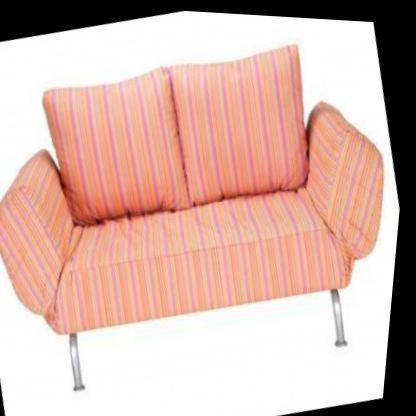Sofa: (0, 8, 415, 416)
